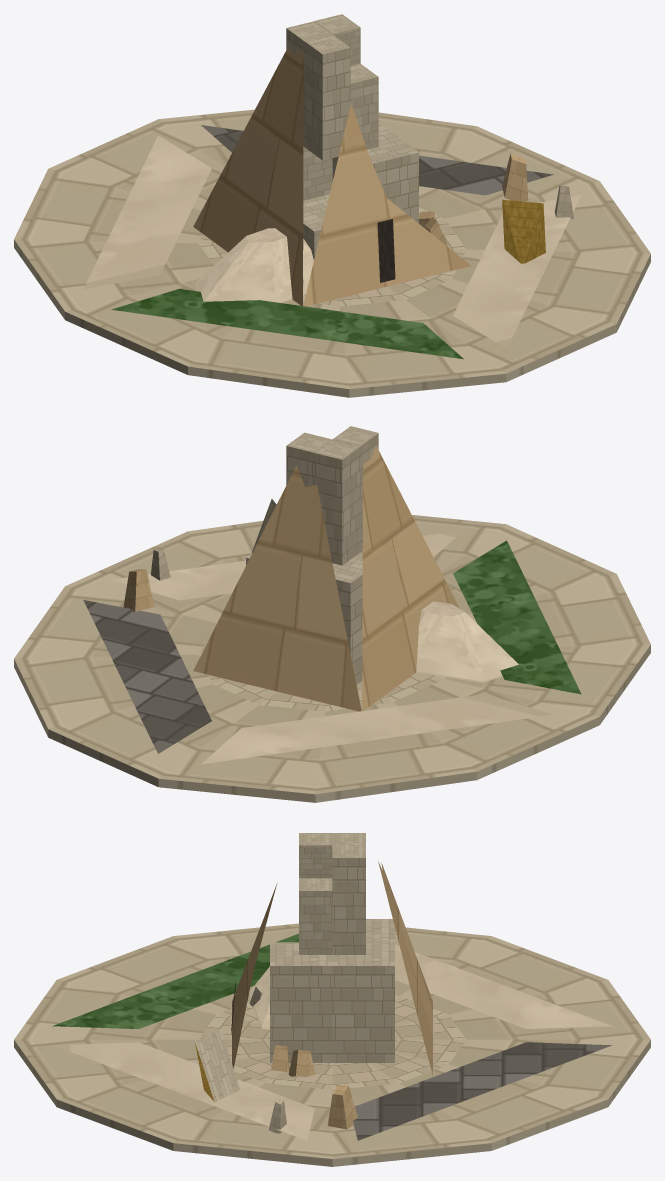
The model's file is pyramid_small_destroyed_lod2.glb.
3 views of the same model, one above another, from view 1: azimuth 30°, elevation 25°; view 2: azimuth 150°, elevation 25°; view 3: azimuth 270°, elevation 25° (orthographic). The views are drawn at different scales.
Parts seen in each view (by area): view 1: pyramid_small_destroyed_lod2; view 2: pyramid_small_destroyed_lod2; view 3: pyramid_small_destroyed_lod2.
Boxes of the visible parts, x1,y1,x2,y2 form: pyramid_small_destroyed_lod2: (14, 14, 650, 397); pyramid_small_destroyed_lod2: (14, 426, 650, 802); pyramid_small_destroyed_lod2: (14, 833, 650, 1166).
Bounding box in the file's own units: 1.7 × 0.6731 × 1.91.
1 material, 1 textured.
